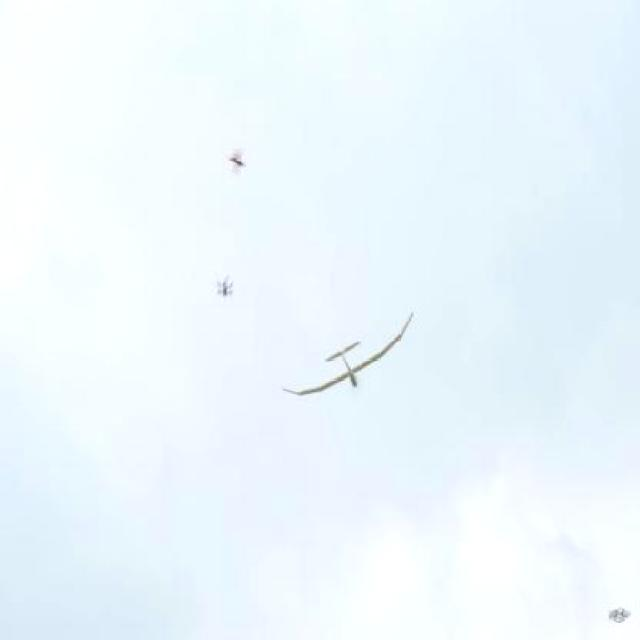iha: (272, 338, 426, 386), (223, 148, 247, 178)
